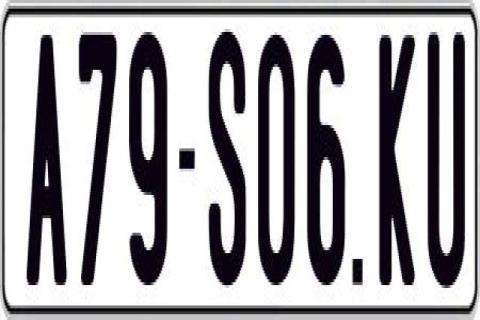0: (258, 32, 298, 300), (129, 29, 171, 282), (306, 35, 346, 294), (79, 26, 116, 288)
A: (27, 26, 71, 288)
K: (376, 35, 414, 285)
S: (208, 29, 250, 291)
U: (428, 26, 464, 294)
